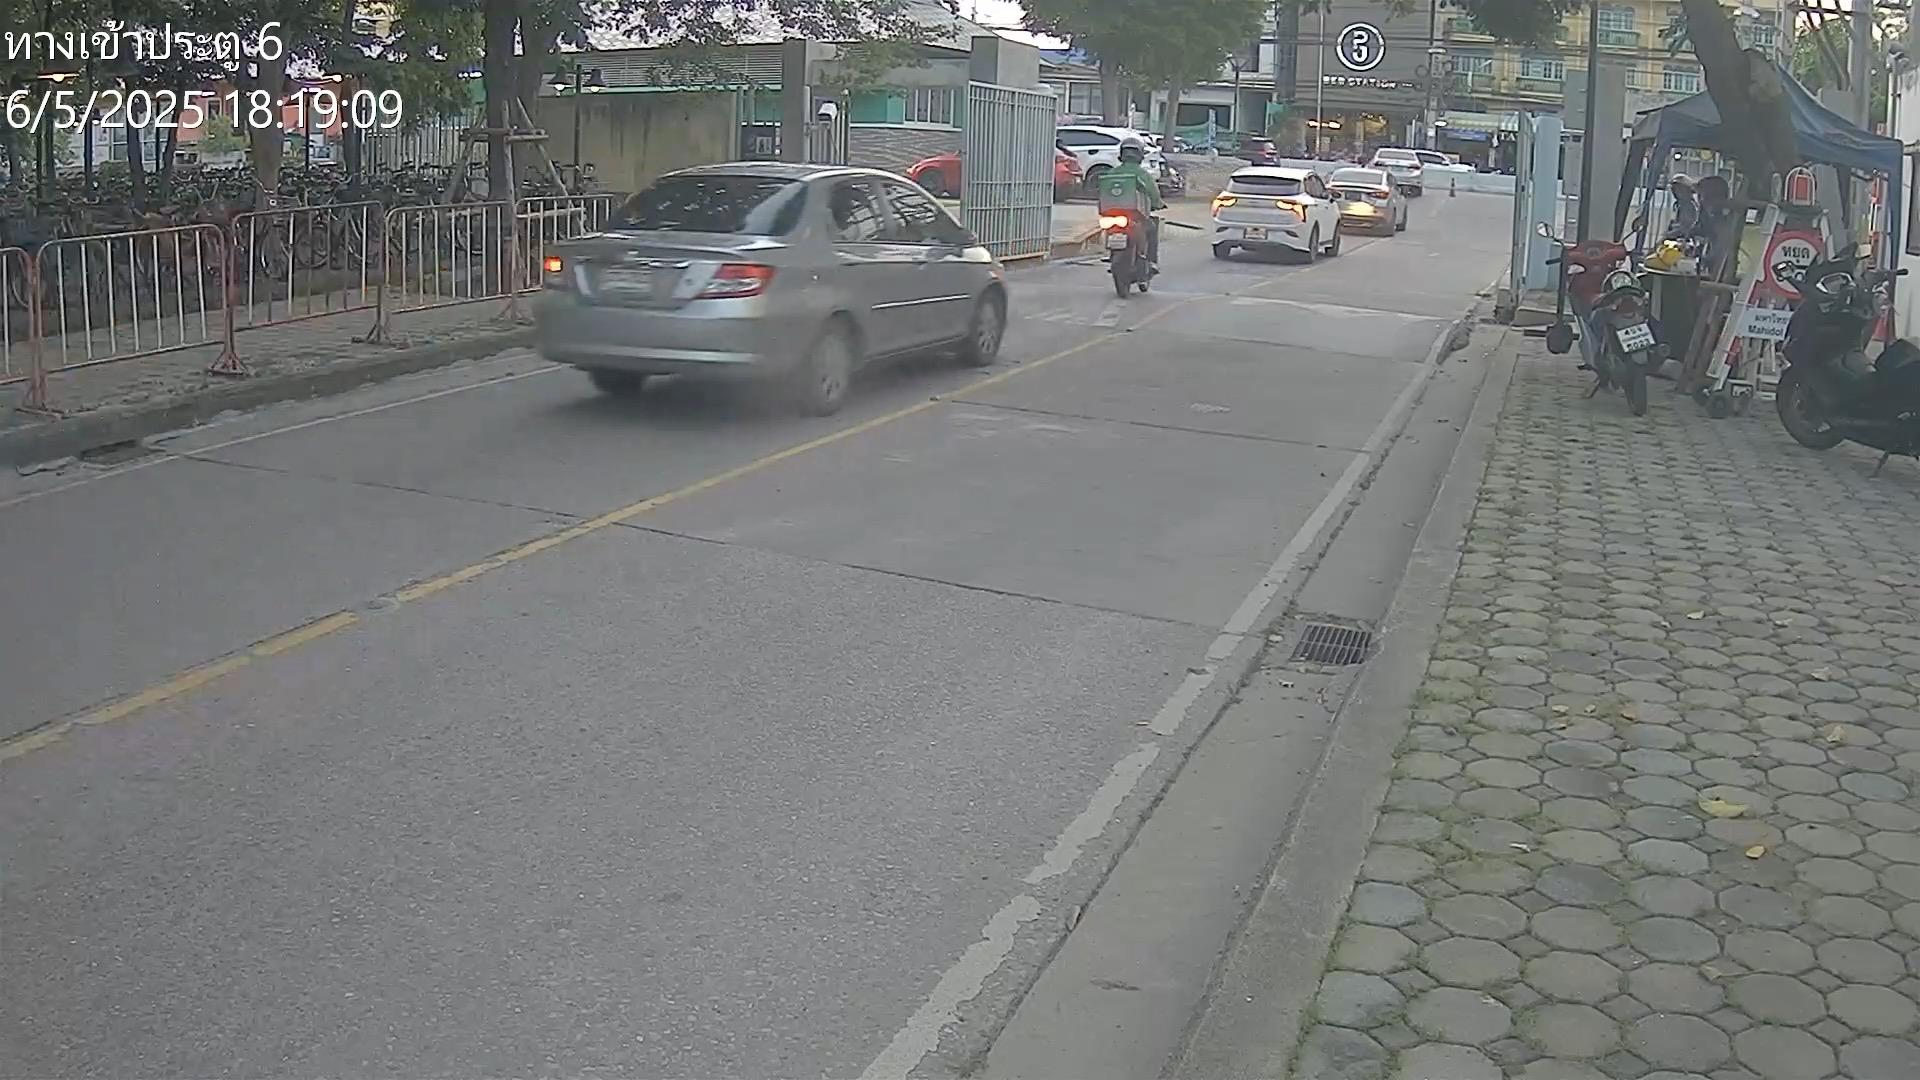With-Helmet: (1117, 133, 1146, 165)
